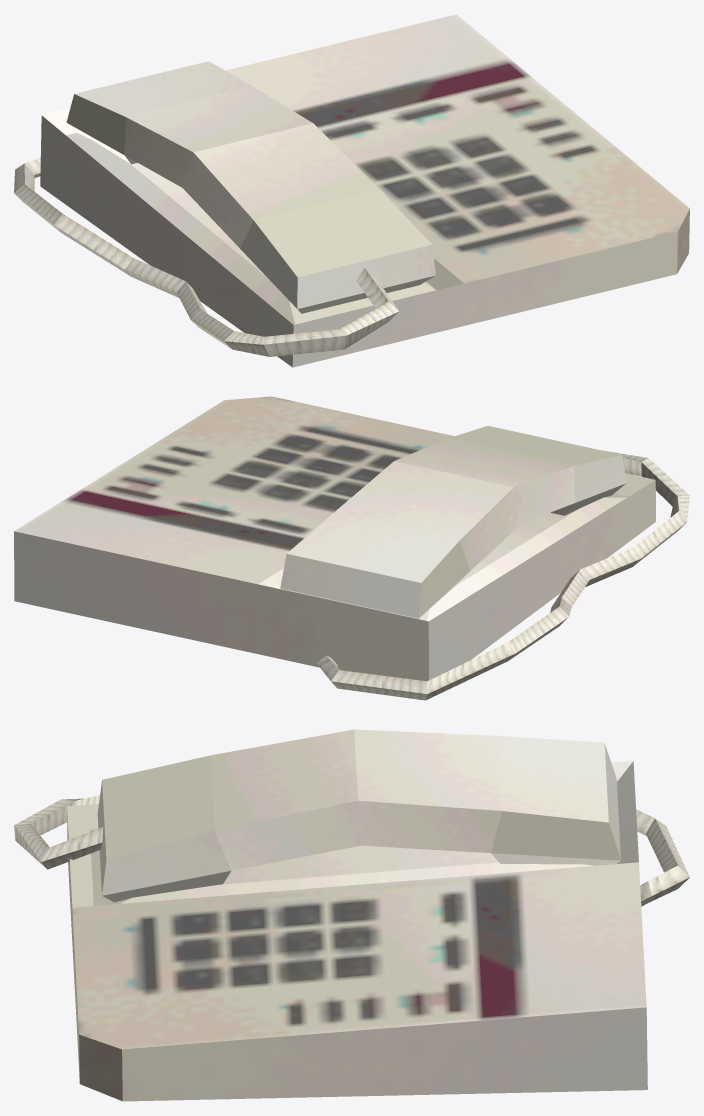
Rendered from desk_phone_with_cable.obj.
3 renders of one model, top to bottom at view 1: azimuth 30°, elevation 25°; view 2: azimuth 150°, elevation 25°; view 3: azimuth 270°, elevation 25°, orthographic. The views are drawn at different scales.
Visible parts, largest first — view 1: desk_phone_with_cable; view 2: desk_phone_with_cable; view 3: desk_phone_with_cable.
Boxes of the visible parts, <box> form: desk_phone_with_cable: <box>14,14,689,367</box>; desk_phone_with_cable: <box>14,396,689,700</box>; desk_phone_with_cable: <box>14,729,689,1101</box>.
Size of the model in its own units: 0.3917 by 0.0973 by 0.3966.
